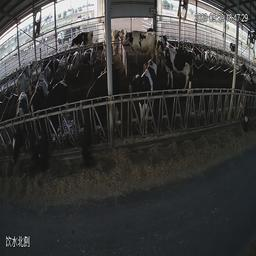cow: (82, 65, 121, 171), (41, 75, 68, 175), (129, 58, 158, 139), (26, 82, 44, 175), (158, 46, 194, 92), (121, 26, 157, 64), (15, 87, 28, 175), (15, 57, 36, 103), (238, 78, 254, 134), (102, 25, 124, 58), (70, 29, 95, 51), (36, 63, 51, 97), (66, 47, 82, 74), (81, 47, 98, 72), (41, 53, 60, 75), (190, 43, 203, 64), (206, 48, 219, 68)
